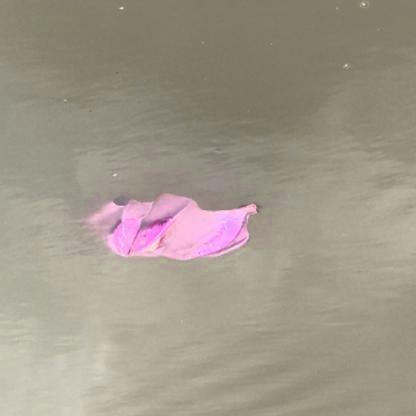Trash: (78, 192, 263, 262)
